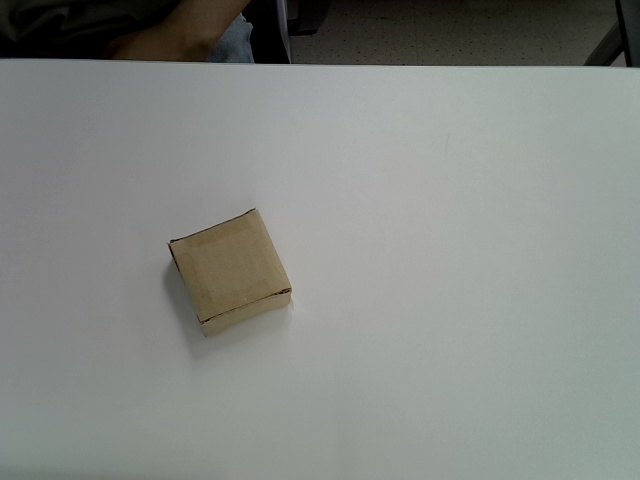normal: (167, 207, 292, 338)
